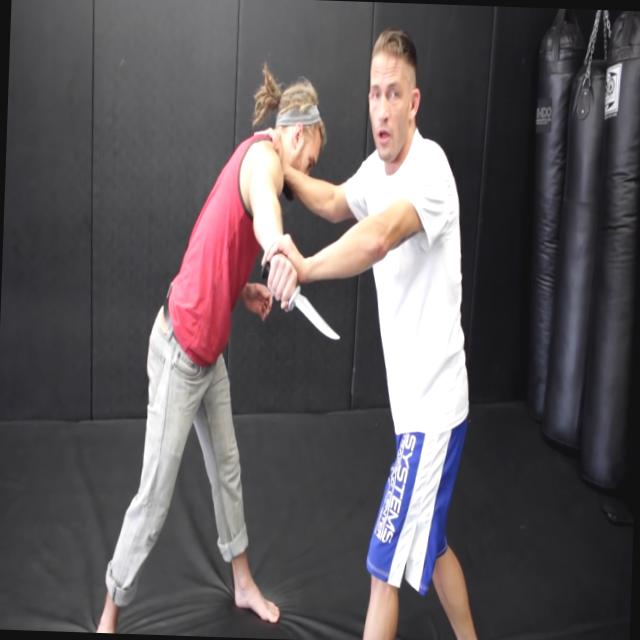knife: (252, 250, 350, 356)
